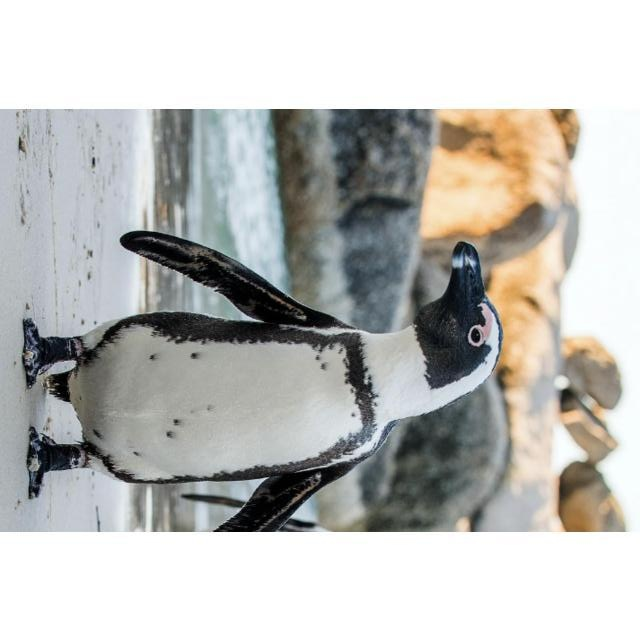penguin: (21, 230, 501, 530)
